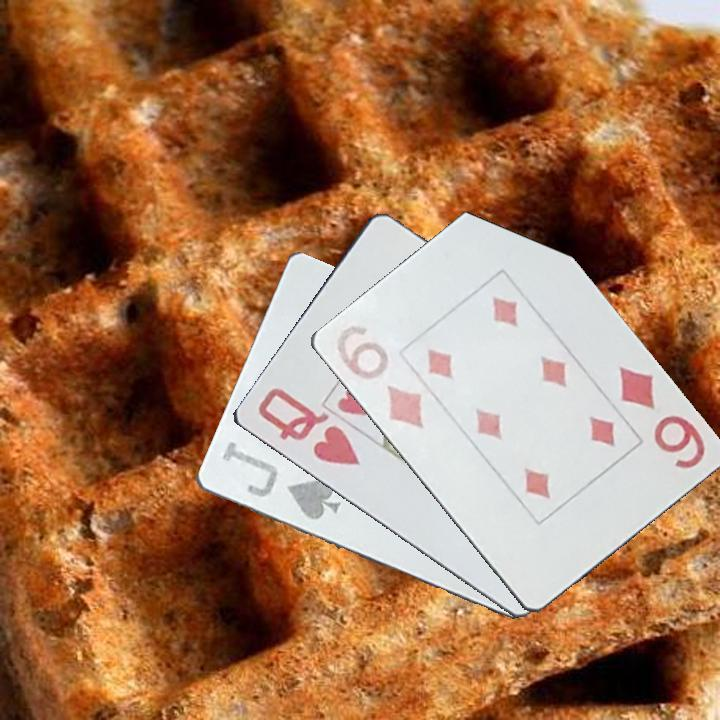6d: (614, 362, 711, 472), (332, 321, 427, 432)
Js: (215, 438, 343, 523)
Qh: (253, 381, 363, 469)
